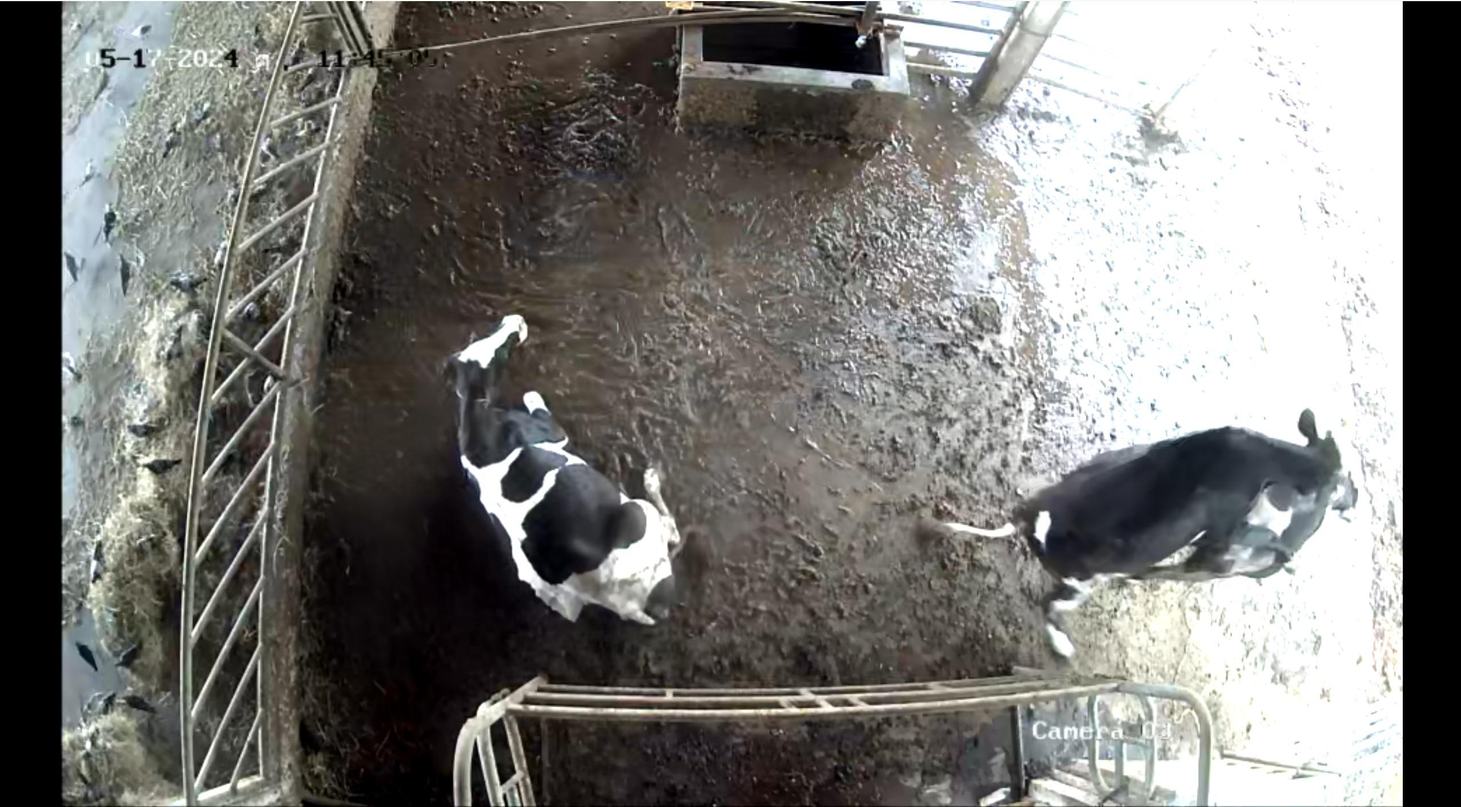lay: (434, 293, 708, 649)
ride: (974, 363, 1343, 643)
stand: (1216, 427, 1365, 605)
